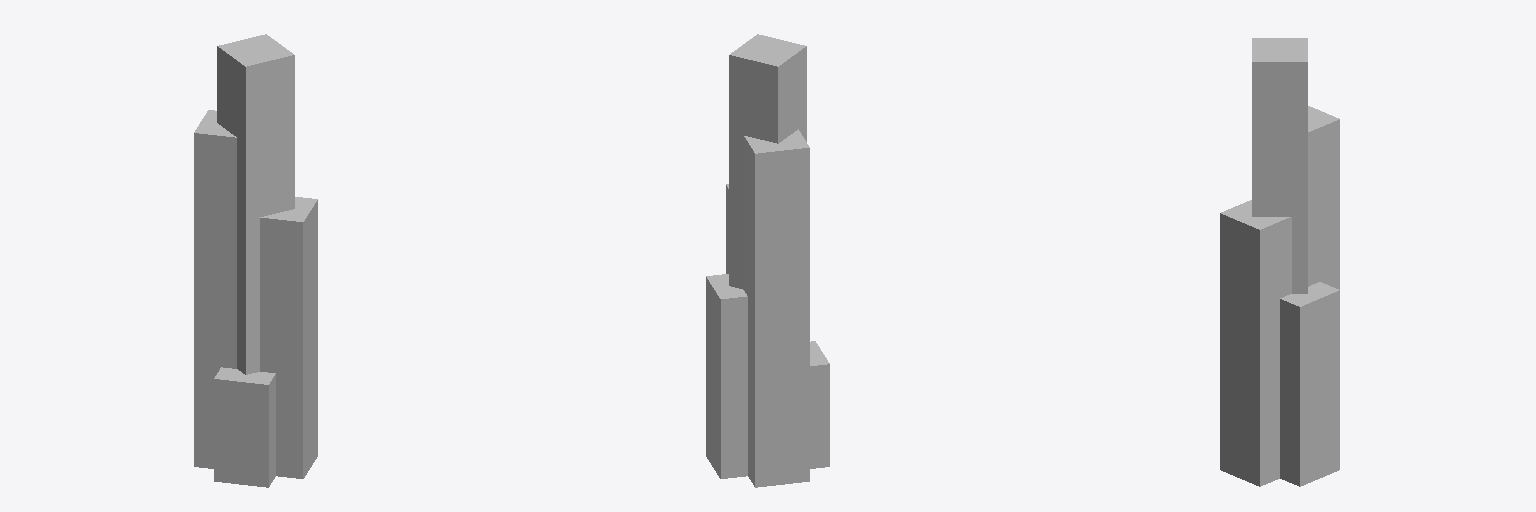
File: stones_dripstone_1.obj
3 renders of one model, left to right at view 1: azimuth 30°, elevation 25°; view 2: azimuth 150°, elevation 25°; view 3: azimuth 270°, elevation 25°, orthographic.
Parts seen in each view (by area): view 1: dripstone_0; view 2: dripstone_0; view 3: dripstone_0.
Part boxes in pixels (bbox=[...]): dripstone_0: bbox=[194, 34, 317, 487]; dripstone_0: bbox=[706, 34, 829, 487]; dripstone_0: bbox=[1220, 38, 1339, 486].
Bounding box in the file's own units: 0.2652 × 1 × 0.2652.